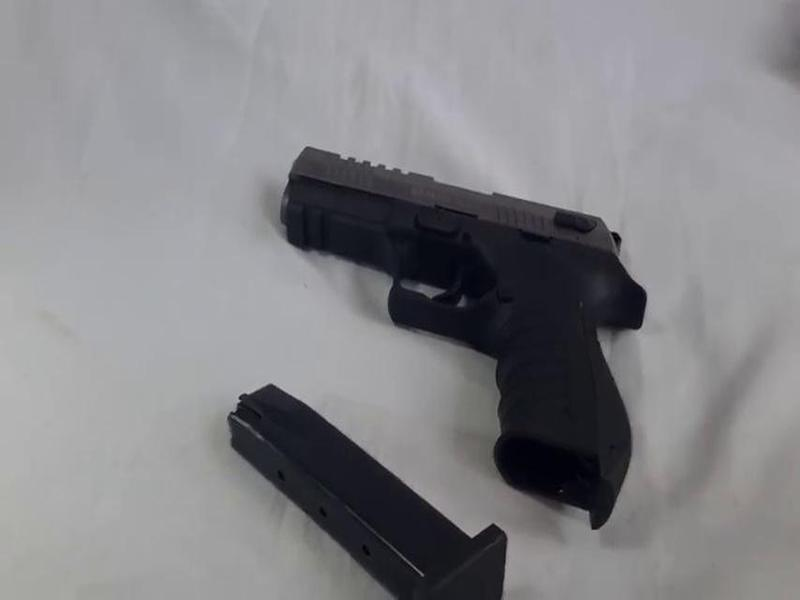Pistola: (249, 130, 669, 540)
